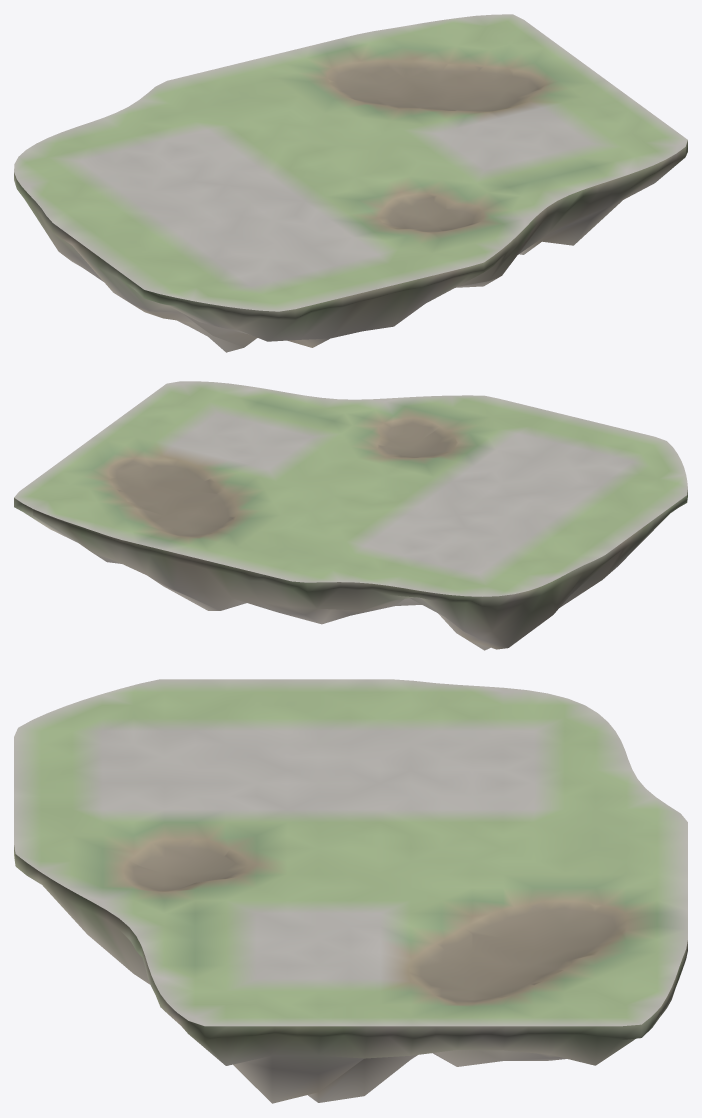
The model's file is SKY-047.rock.glb.
3 renders of one model, top to bottom at view 1: azimuth 30°, elevation 25°; view 2: azimuth 150°, elevation 25°; view 3: azimuth 270°, elevation 25°, orthographic. The views are drawn at different scales.
Visible parts, largest first — view 1: deck-col, rock; view 2: deck-col, rock; view 3: deck-col, rock.
Boxes of the visible parts, x1,y1,x2,y2 form: deck-col: (14,14,687,311); rock: (14,140,687,352); deck-col: (14,381,687,596); rock: (14,490,687,650); deck-col: (14,679,687,1026); rock: (14,845,687,1103).
Bounding box in the file's own units: 107 × 24.87 × 87.54.
